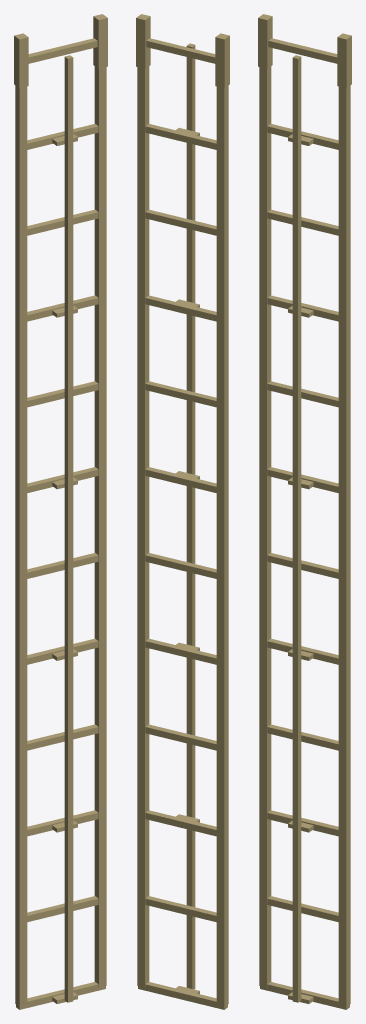
Rendered from SM_Ladder_LowerToMain_LowerAccess.fbx.
The picture shows the model from 3 angles, left to right: view 1: azimuth 30°, elevation 25°; view 2: azimuth 150°, elevation 25°; view 3: azimuth 330°, elevation 25°; orthographic projection.
Parts seen in each view (by area): view 1: SM_Ladder_LowerToMain_LowerAccess; view 2: SM_Ladder_LowerToMain_LowerAccess; view 3: SM_Ladder_LowerToMain_LowerAccess.
Part boxes in pixels (box(x1,y1,x2,y2)): SM_Ladder_LowerToMain_LowerAccess: box(14, 14, 107, 1009); SM_Ladder_LowerToMain_LowerAccess: box(136, 14, 229, 1009); SM_Ladder_LowerToMain_LowerAccess: box(258, 14, 351, 1009).
Size of the model in its own units: 38 by 9.2 by 398.
